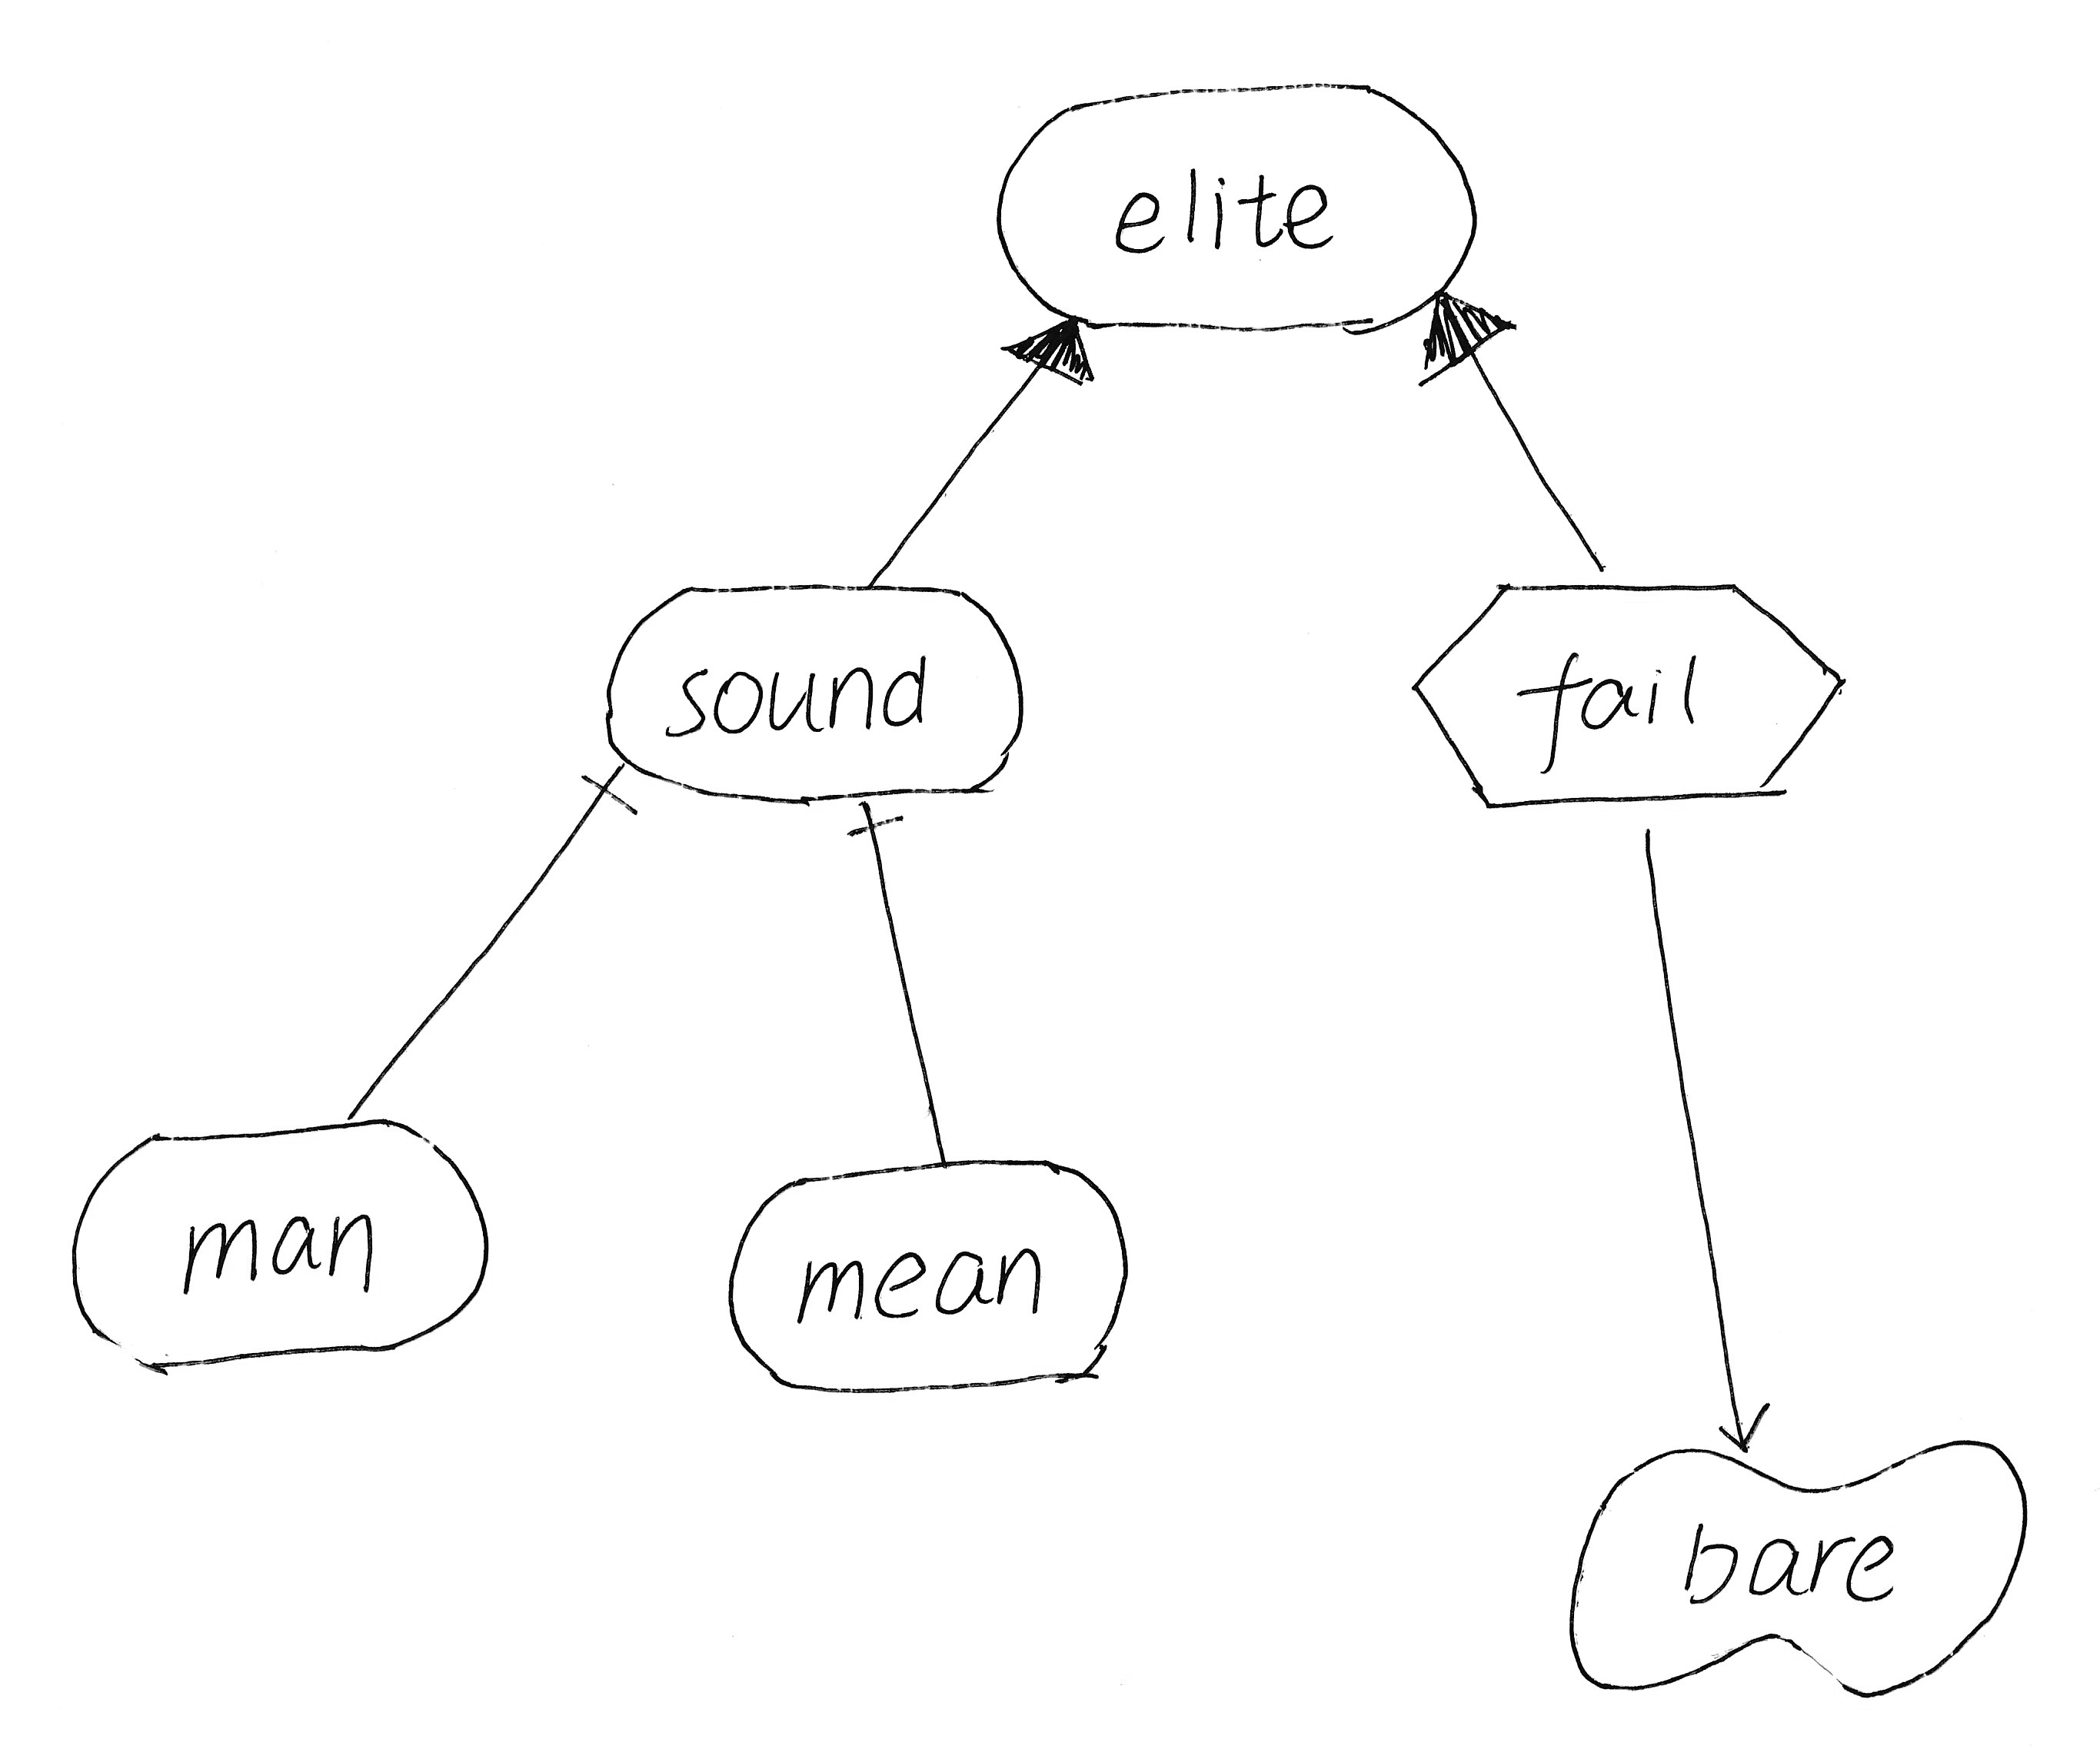and: (833, 789, 911, 853), (576, 752, 639, 825)
arrow: (1704, 1396, 1784, 1461)
goal: (976, 61, 1498, 352), (56, 1099, 518, 1382), (703, 1133, 1150, 1415), (580, 560, 1040, 825)
or: (1407, 283, 1526, 393), (995, 304, 1107, 400)
quality: (1548, 1415, 2046, 1714)
task: (1393, 562, 1868, 829)
